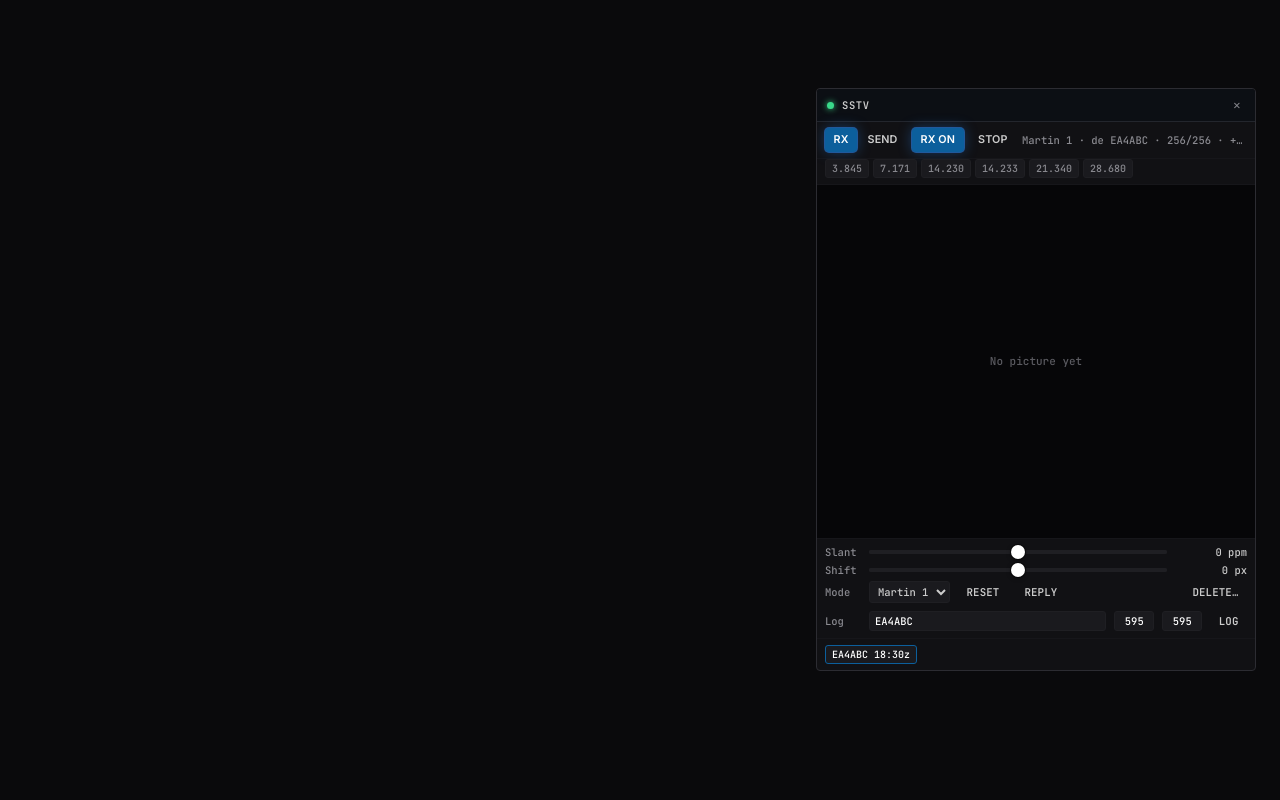
Test case: SstvWindow log row › logs an SSTV QSO pre-filled from the FSK ID
Expected: the field with class "sstv-call" holds "EA4ABC", x1=869 y1=611 x2=1106 y2=631
Click the button "LOG" at (1229, 621), box x1=1210 y1=610 x2=1247 y2=632
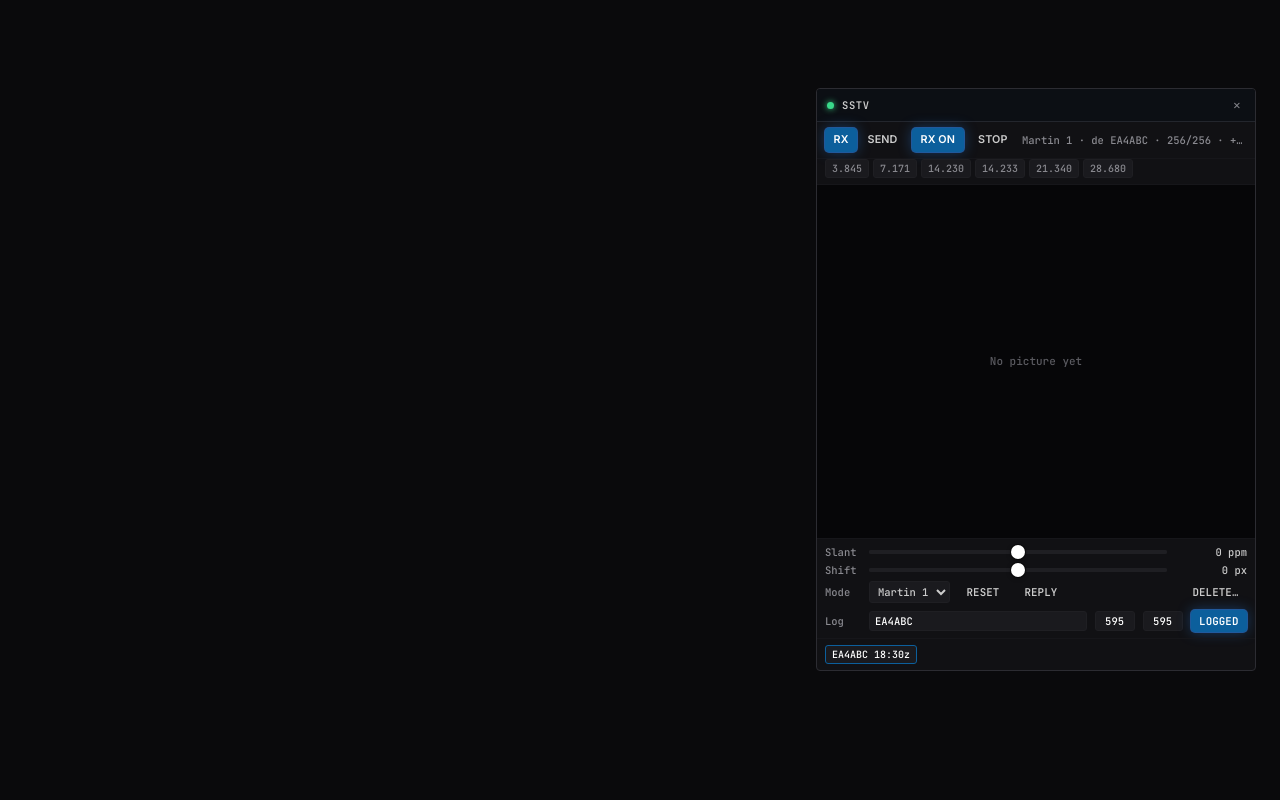
Expected: the button "LOGGED" is shown, x1=1190 y1=610 x2=1247 y2=632
